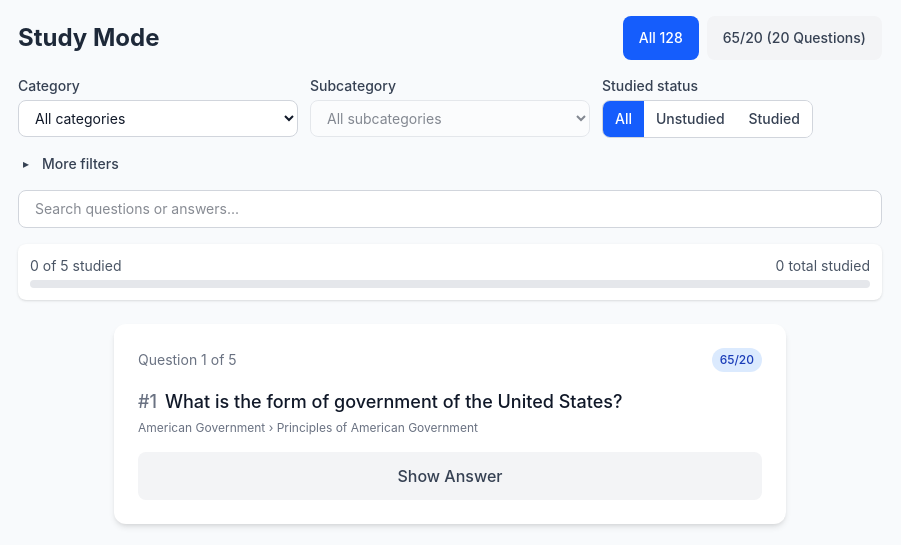
Test: StudyPage filters › shows filter-aware empty state with a Clear filters button on empty intersection
Check: the text "#1What is the form of government of the United States?" is shown, box 138,391 -> 622,412
Type "zzznomatch" into the search field named "Search questions by keyword".
click(450, 209); type("zzznomatch")  # box 18,190 -> 882,228
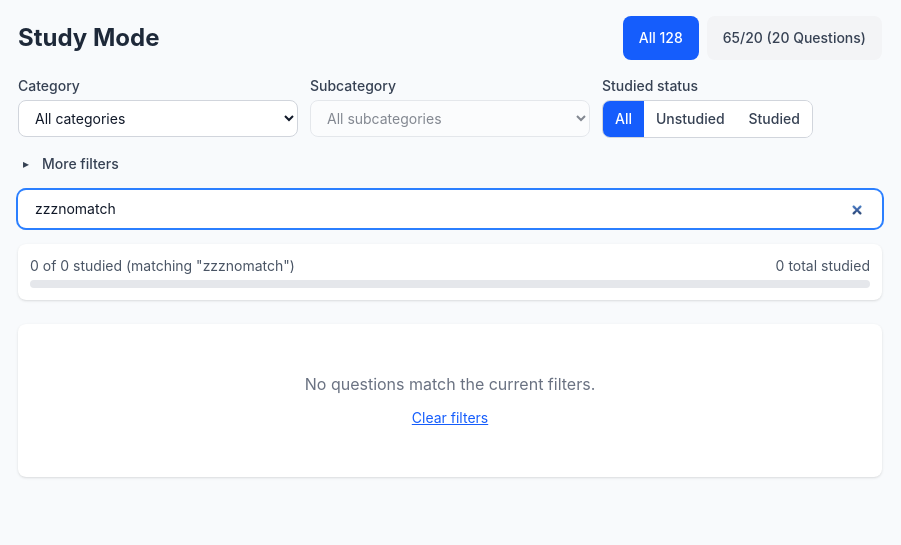
Check: the text "No questions match the current filters." is shown, box 305,374 -> 595,394
Click the button "Clear filters".
click(450, 418)  # box 412,408 -> 488,428
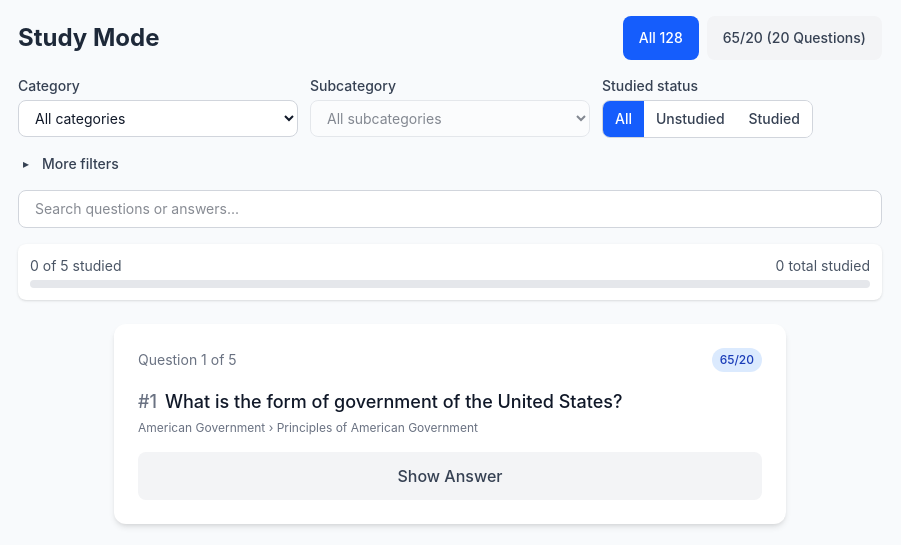
Check: the text "#1What is the form of government of the United States?" is shown, box 138,391 -> 622,412
Check: the text "Question 1 of 5" is shown, box 138,350 -> 237,370
